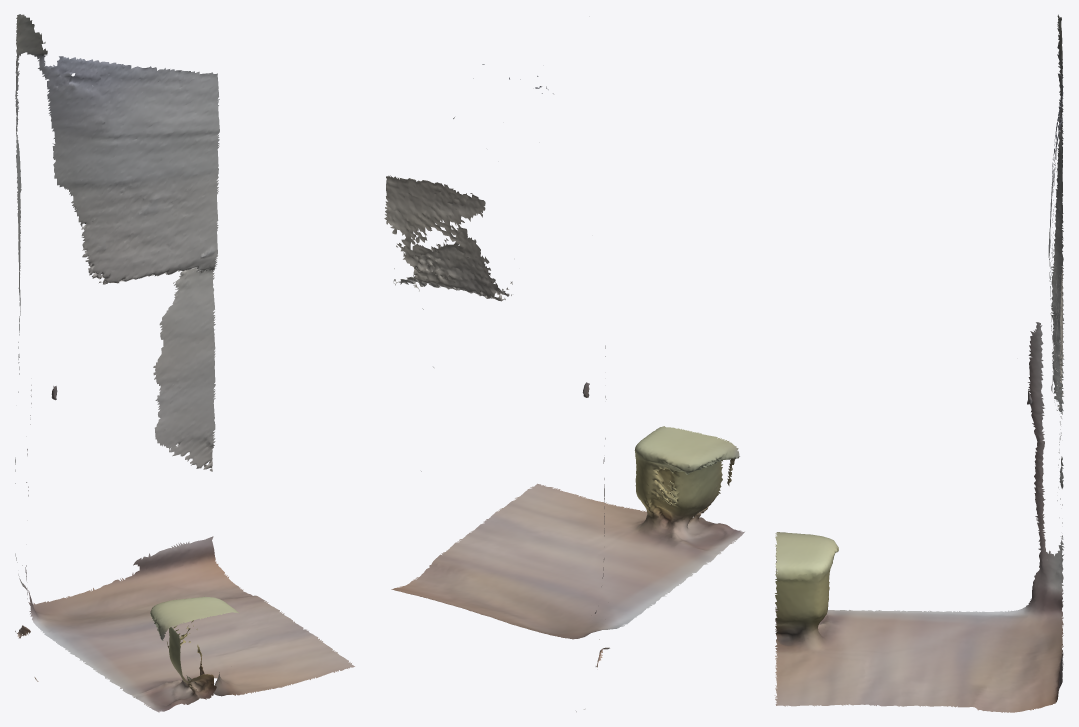
File: apartment-full-59-a9ee6798a602.glb
The picture shows the model from 3 angles, left to right: view 1: azimuth 30°, elevation 25°; view 2: azimuth 150°, elevation 25°; view 3: azimuth 270°, elevation 25°; orthographic projection. The views are drawn at different scales.
Size of the model in its own units: 0.738 by 2.36 by 0.925.
